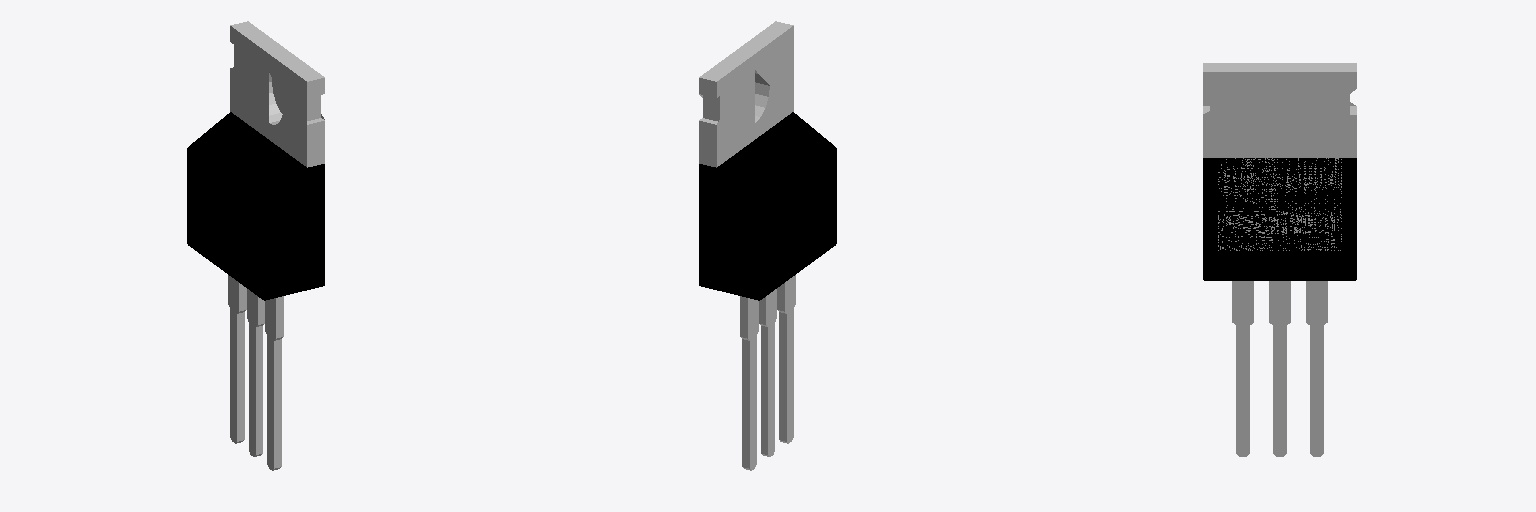
File: transistor_220.obj
3 renders of one model, left to right at view 1: azimuth 30°, elevation 25°; view 2: azimuth 150°, elevation 25°; view 3: azimuth 270°, elevation 25°, orthographic.
Parts seen in each view (by area): view 1: transistor-220, Heatsink, Legs.005; view 2: transistor-220, Heatsink, Legs.005; view 3: transistor-220, Heatsink, Legs.005.
Part boxes in pixels (left/top/right/bottom): transistor-220: left=187, top=112, right=324, bottom=300; Heatsink: left=230, top=21, right=324, bottom=167; Legs.005: left=228, top=275, right=283, bottom=470; transistor-220: left=699, top=112, right=836, bottom=300; Heatsink: left=699, top=21, right=793, bottom=167; Legs.005: left=740, top=275, right=795, bottom=470; transistor-220: left=1203, top=158, right=1356, bottom=280; Heatsink: left=1203, top=63, right=1356, bottom=250; Legs.005: left=1232, top=281, right=1327, bottom=456.
Bounding box in the file's own units: 0.0048 × 0.03 × 0.0105.